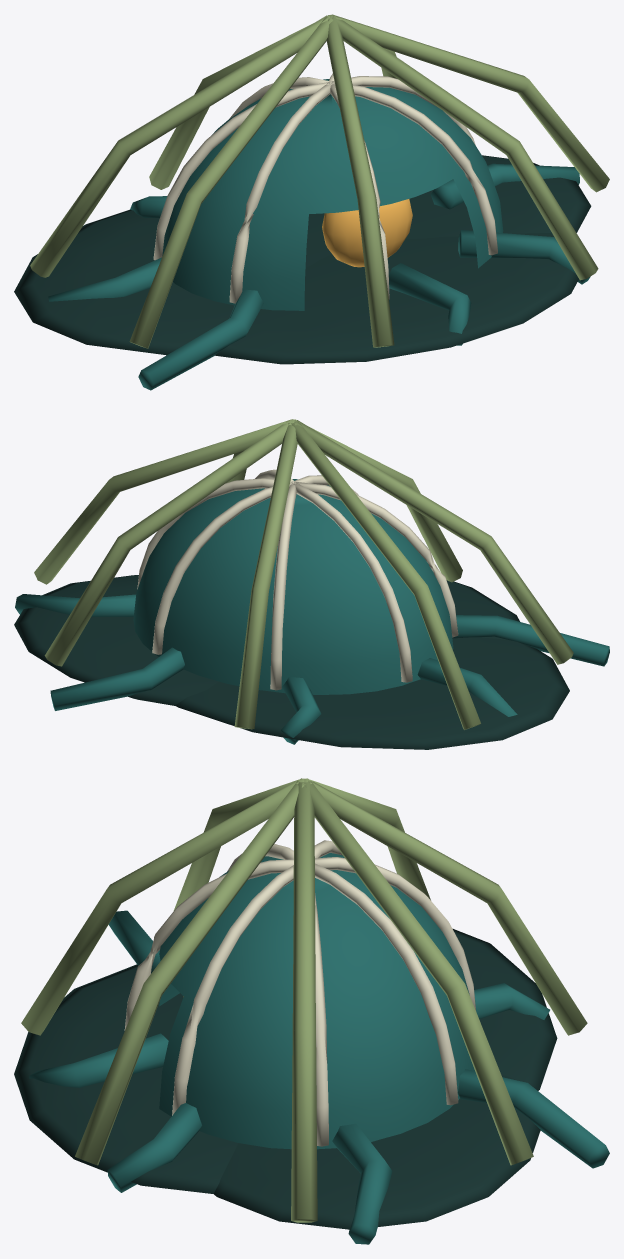
The model's file is construction_growth_stage_1.obj.
3 views of the same model, one above another, from view 1: azimuth 30°, elevation 25°; view 2: azimuth 150°, elevation 25°; view 3: azimuth 270°, elevation 25° (orthographic). The views are drawn at different scales.
Visible parts, largest first — view 1: inhabited_shell.034, irregular_anchoring_lobe.128, irregular_anchoring_lobe.126, living_scaffold_rib.010, living_scaffold_rib.013, living_scaffold_rib.011, living_scaffold_rib.012, irregular_anchoring_lobe.127, living_scaffold_rib.007, anchoring_root.298, warm_occupied_cavity.034, growth_seam.228 (+11 smaller); view 2: inhabited_shell.034, irregular_anchoring_lobe.126, irregular_anchoring_lobe.127, living_scaffold_rib.011, living_scaffold_rib.008, living_scaffold_rib.010, living_scaffold_rib.009, living_scaffold_rib.007, anchoring_root.295, anchoring_root.298, growth_seam.227, growth_seam.225 (+8 smaller); view 3: inhabited_shell.034, irregular_anchoring_lobe.127, irregular_anchoring_lobe.128, living_scaffold_rib.007, living_scaffold_rib.013, living_scaffold_rib.008, living_scaffold_rib.012, living_scaffold_rib.009, irregular_anchoring_lobe.126, anchoring_root.295, growth_seam.225, growth_seam.230 (+10 smaller).
Boxes of the visible parts, x1,y1,x2,y2 form: inhabited_shell.034: [162, 79, 503, 310]; irregular_anchoring_lobe.128: [214, 233, 578, 364]; irregular_anchoring_lobe.126: [14, 209, 331, 355]; living_scaffold_rib.010: [30, 15, 328, 277]; living_scaffold_rib.013: [333, 16, 598, 280]; living_scaffold_rib.011: [129, 17, 333, 348]; living_scaffold_rib.012: [326, 18, 394, 347]; irregular_anchoring_lobe.127: [308, 155, 591, 238]; living_scaffold_rib.007: [331, 14, 609, 192]; anchoring_root.298: [138, 289, 263, 390]; warm_occupied_cavity.034: [322, 199, 412, 267]; growth_seam.228: [229, 82, 332, 303]; inhabited_shell.034: [133, 479, 453, 694]; irregular_anchoring_lobe.126: [175, 637, 569, 749]; irregular_anchoring_lobe.127: [14, 575, 218, 705]; living_scaffold_rib.011: [295, 420, 573, 664]; living_scaffold_rib.008: [44, 420, 291, 666]; living_scaffold_rib.010: [291, 421, 480, 729]; living_scaffold_rib.009: [234, 423, 297, 729]; living_scaffold_rib.007: [34, 419, 292, 584]; anchoring_root.295: [50, 647, 184, 710]; anchoring_root.298: [452, 615, 609, 666]; growth_seam.227: [292, 482, 412, 682]; growth_seam.225: [152, 482, 293, 654]; inhabited_shell.034: [159, 853, 474, 1149]; irregular_anchoring_lobe.127: [214, 1074, 540, 1229]; irregular_anchoring_lobe.128: [14, 964, 238, 1193]; living_scaffold_rib.007: [291, 782, 317, 1222]; living_scaffold_rib.013: [75, 781, 305, 1165]; living_scaffold_rib.008: [303, 781, 533, 1165]; living_scaffold_rib.012: [21, 779, 300, 1035]; living_scaffold_rib.009: [308, 779, 587, 1035]; irregular_anchoring_lobe.126: [453, 929, 557, 1090]; anchoring_root.295: [458, 1069, 609, 1168]; growth_seam.225: [315, 863, 458, 1105]; growth_seam.230: [172, 865, 293, 1115].
Size of the model in its own units: 3.25 by 1.42 by 2.46.
